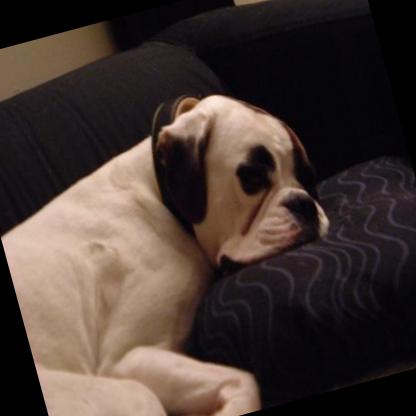boxer: (0, 0, 374, 416)
